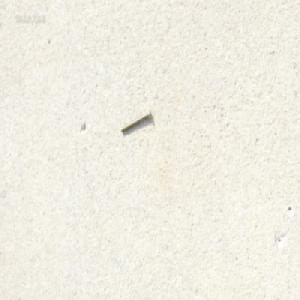Bolt: (120, 108, 151, 133)
